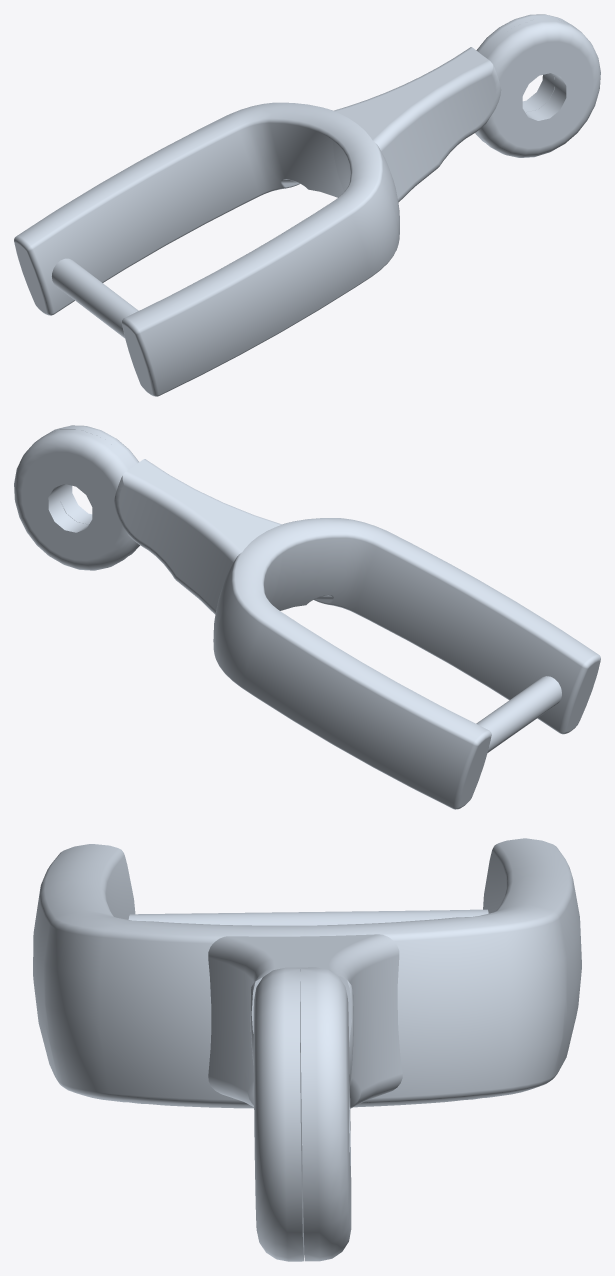
Rendered from RB-020_viewer.glb.
The picture shows the model from 3 angles, top to bottom: view 1: azimuth 30°, elevation 25°; view 2: azimuth 150°, elevation 25°; view 3: azimuth 270°, elevation 25°; orthographic projection. The views are drawn at different scales.
Parts seen in each view (by area): view 1: basebody_imported1; view 2: basebody_imported1; view 3: basebody_imported1.
Boxes of the visible parts, box(x1,y1,x2,y2) form: basebody_imported1: box(14, 14, 600, 396); basebody_imported1: box(14, 425, 600, 809); basebody_imported1: box(33, 838, 581, 1261).
Size of the model in its own units: 0.0577 by 0.0246 by 0.0264.
